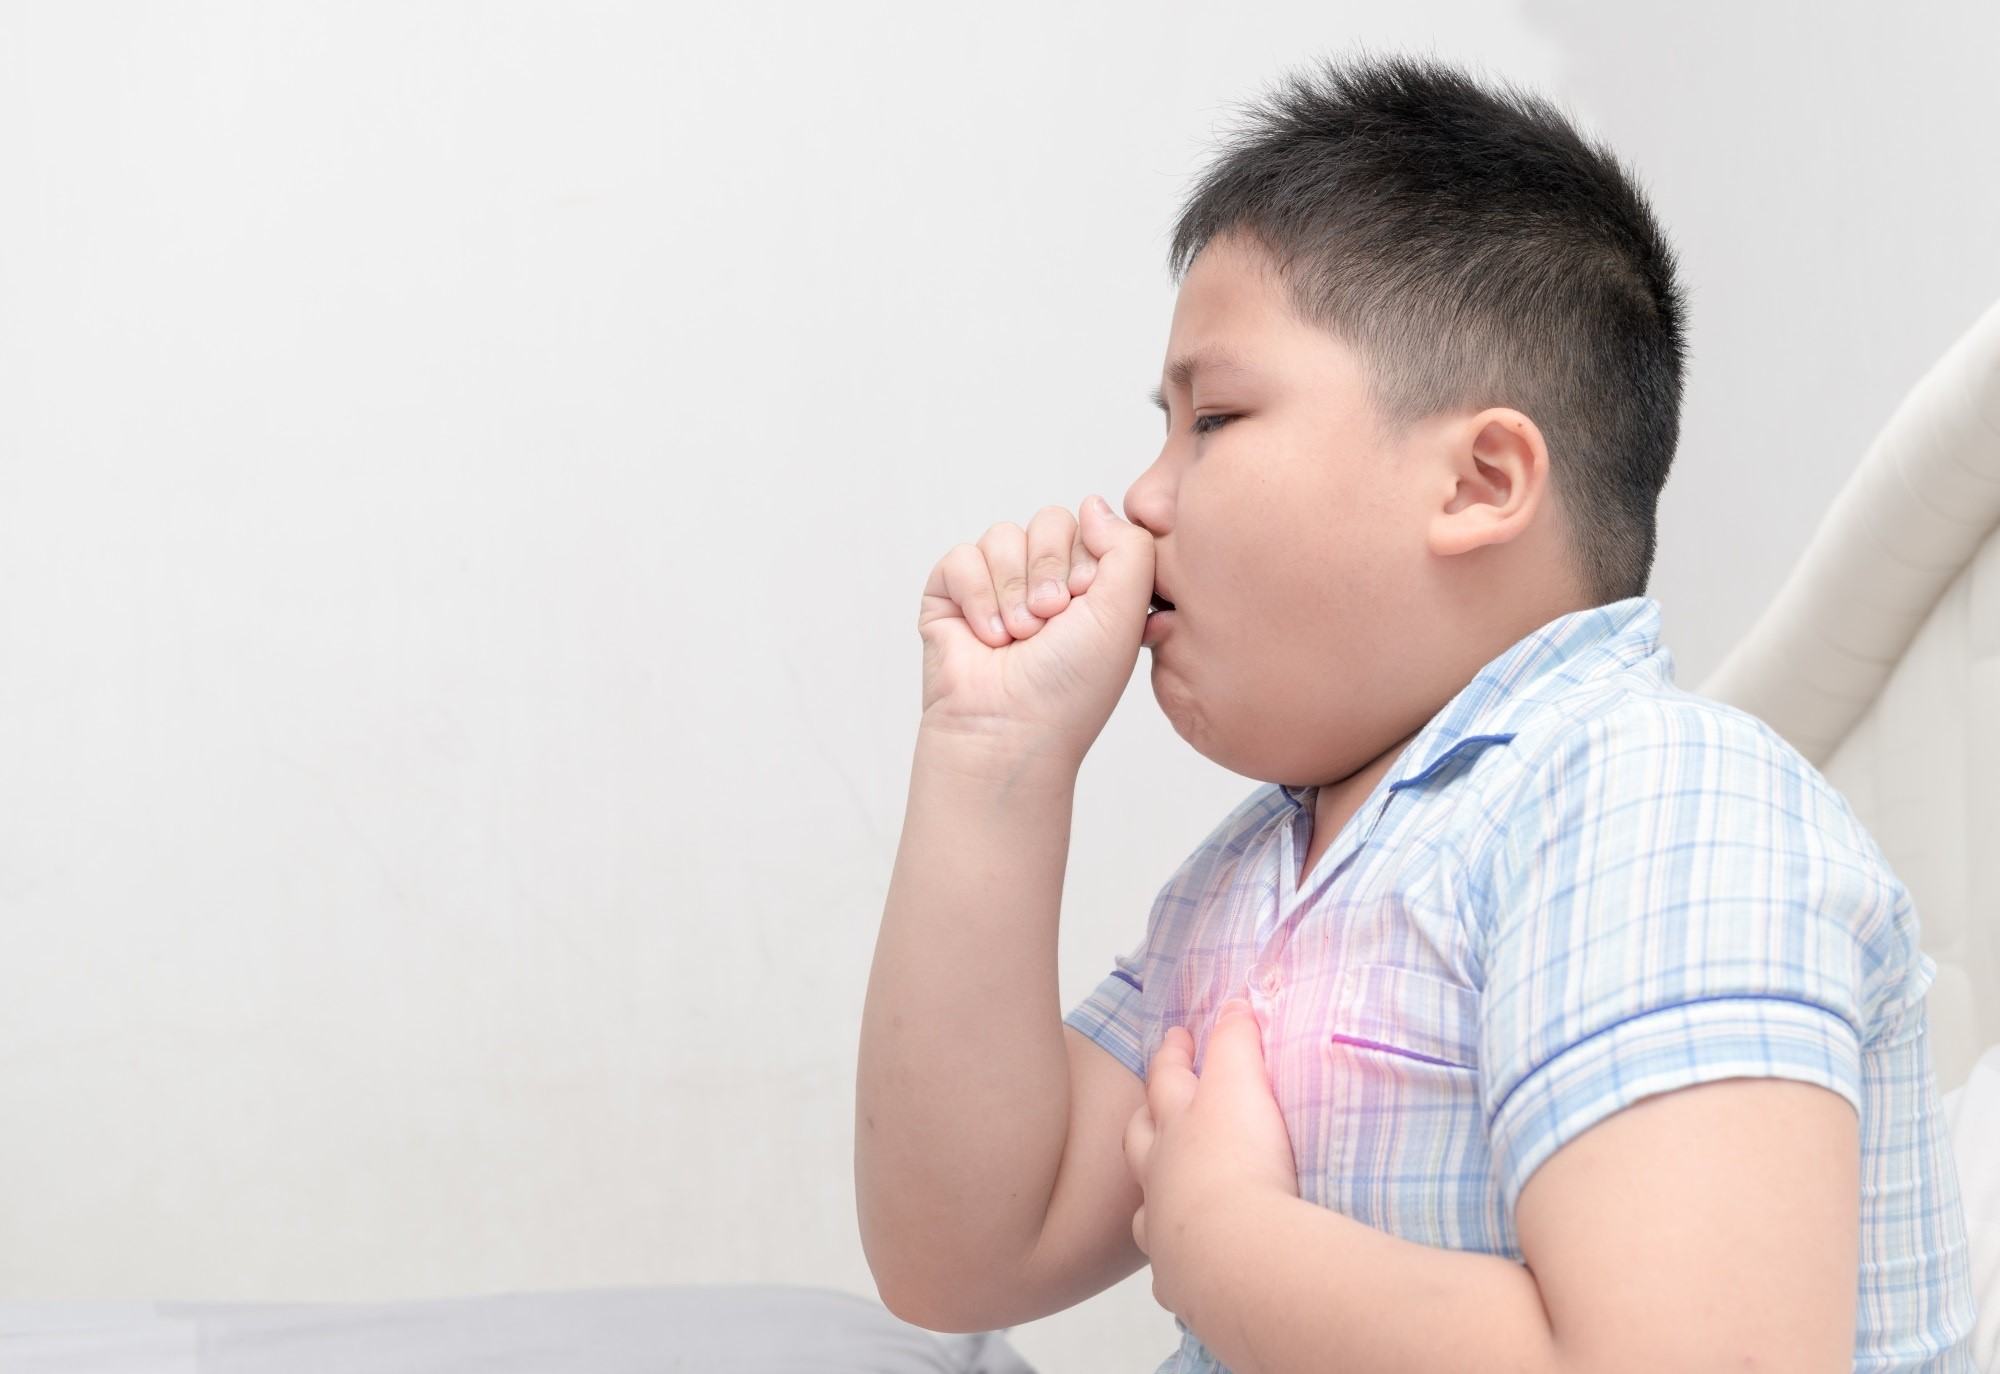face_no_mask: (1123, 75, 1685, 781)
